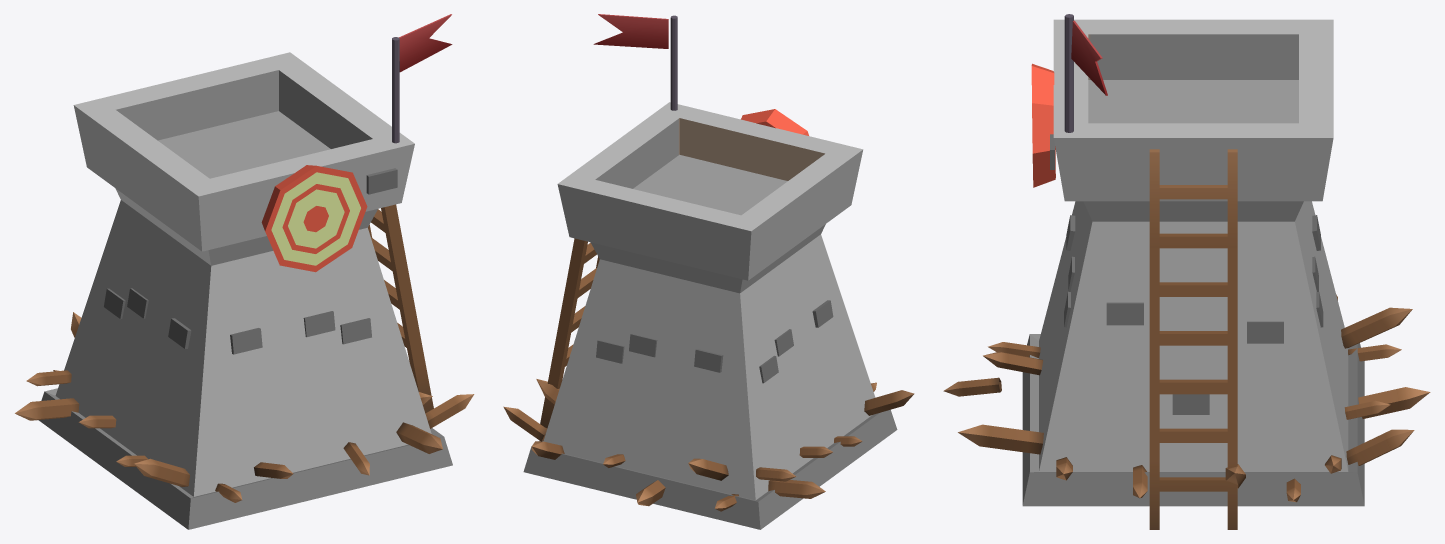
File: Archer Tower lv1.fbx
The picture shows the model from 3 angles, left to right: view 1: azimuth 30°, elevation 25°; view 2: azimuth 150°, elevation 25°; view 3: azimuth 270°, elevation 25°; orthographic projection. The views are drawn at different scales.
Visible parts, largest first — view 1: Archer Tower Lv 1, Flag Lv1; view 2: Archer Tower Lv 1, Flag Lv1; view 3: Archer Tower Lv 1, Flag Lv1.
Part boxes in pixels (x1,y1,x2,y2): Archer Tower Lv 1: (15,37,474,529); Flag Lv1: (399,14,452,72); Archer Tower Lv 1: (503,15,914,529); Flag Lv1: (593,14,668,48); Archer Tower Lv 1: (943,14,1430,529); Flag Lv1: (1071,20,1107,95).
Bounding box in the file's own units: 1090 × 1243 × 1155.
